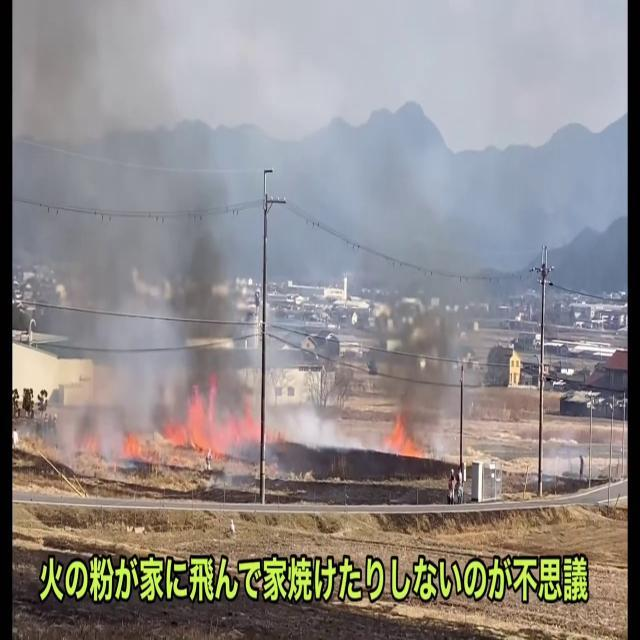Fire: (121, 381, 256, 478), (379, 415, 429, 465)
Smoke: (13, 4, 284, 472), (372, 222, 512, 402)
